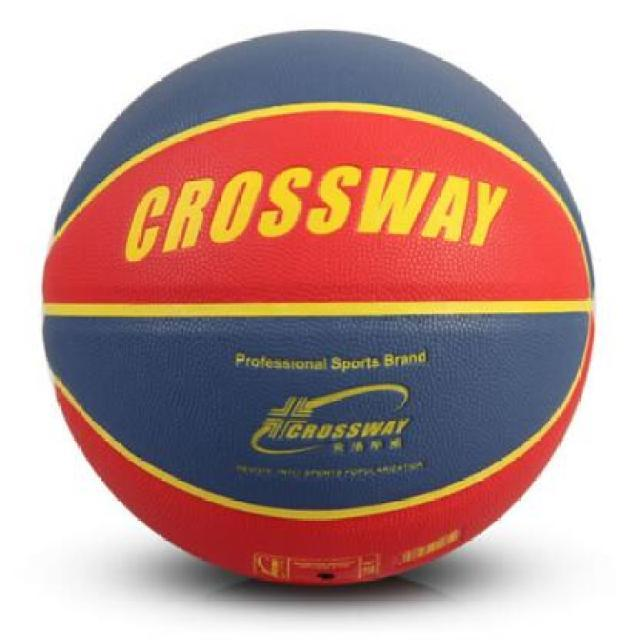basketball: (46, 30, 596, 588)
